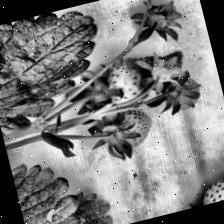Powdery Mildew Fruit: (99, 52, 160, 109)
